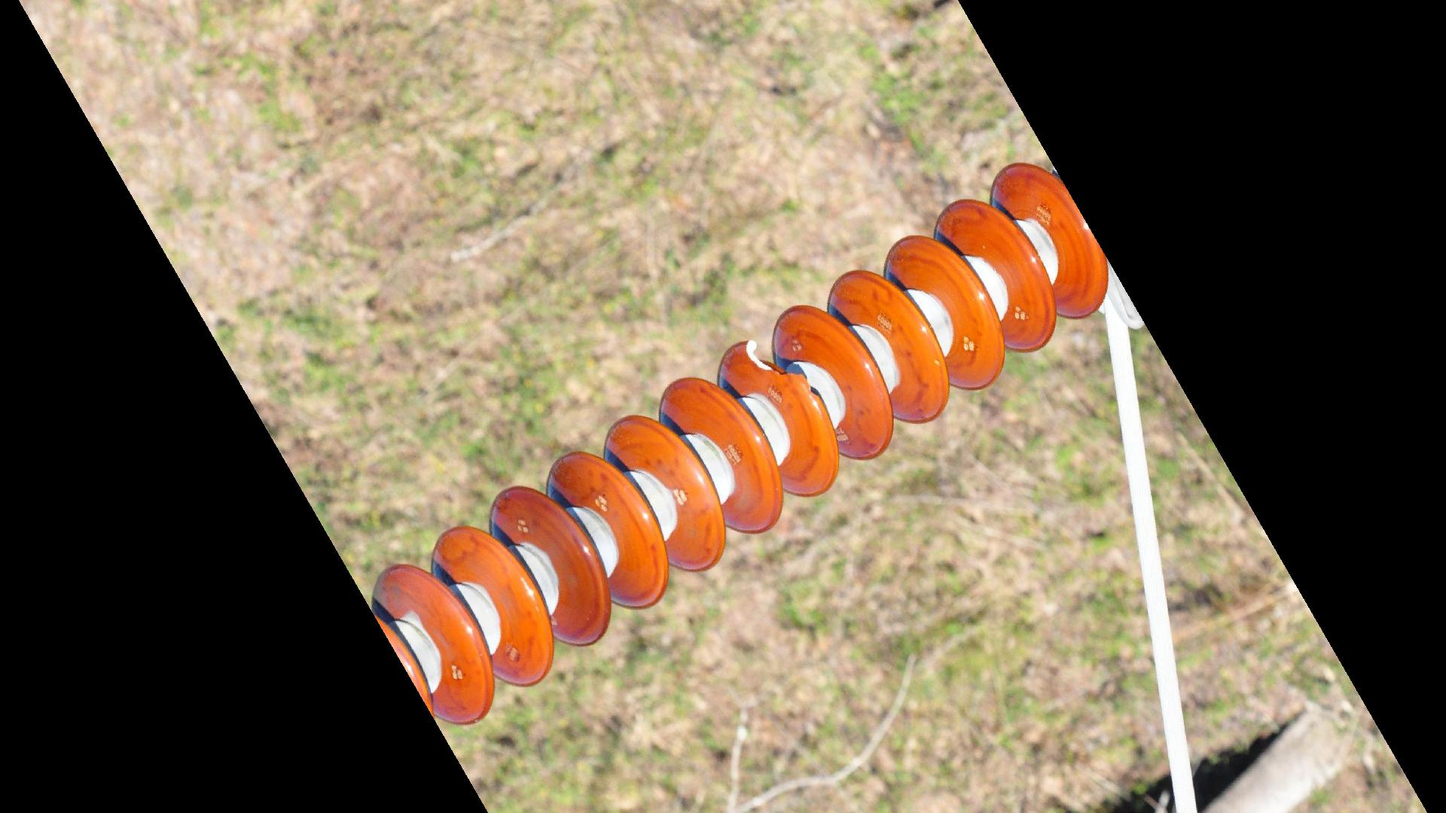insulator: (368, 154, 1111, 731)
insulator_breakage: (734, 336, 817, 397)
